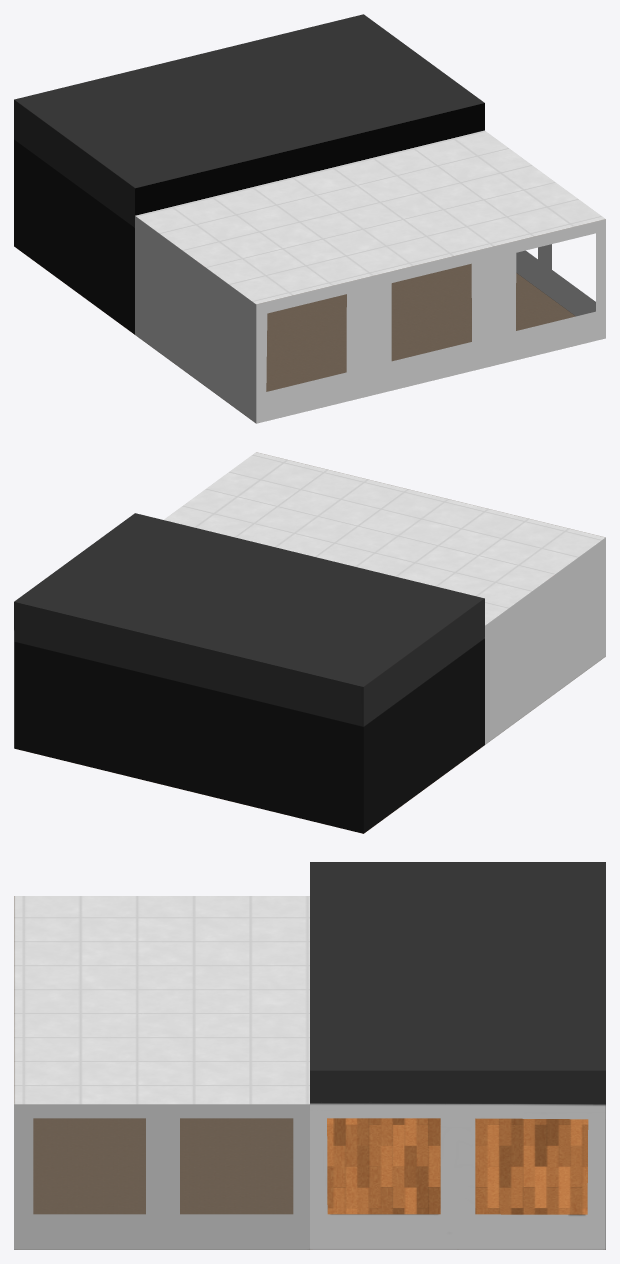
The model's file is Room_Box.fbx.
The picture shows the model from 3 angles, top to bottom: view 1: azimuth 30°, elevation 25°; view 2: azimuth 150°, elevation 25°; view 3: azimuth 270°, elevation 25°; orthographic projection. The views are drawn at different scales.
Parts seen in each view (by area): view 1: Room roof, Room wall.001, Room wall, Room floor; view 2: Room roof, Room wall, Room wall.001; view 3: Room roof, Room floor, Room wall, Room wall.001.
Boxes of the visible parts, x1,y1,x2,y2 form: Room roof: (14, 14, 605, 304); Room wall.001: (135, 216, 605, 423); Room wall: (14, 100, 134, 334); Room floor: (266, 263, 575, 391); Room roof: (14, 452, 605, 686); Room wall: (14, 598, 484, 833); Room wall.001: (485, 537, 605, 744); Room roof: (14, 862, 605, 1104); Room floor: (33, 1118, 588, 1214); Room wall: (310, 1070, 605, 1249); Room wall.001: (14, 1104, 309, 1249).
Bounding box in the file's own units: 1000 × 401 × 1200.
Materials: 1 (1 with a texture image).
